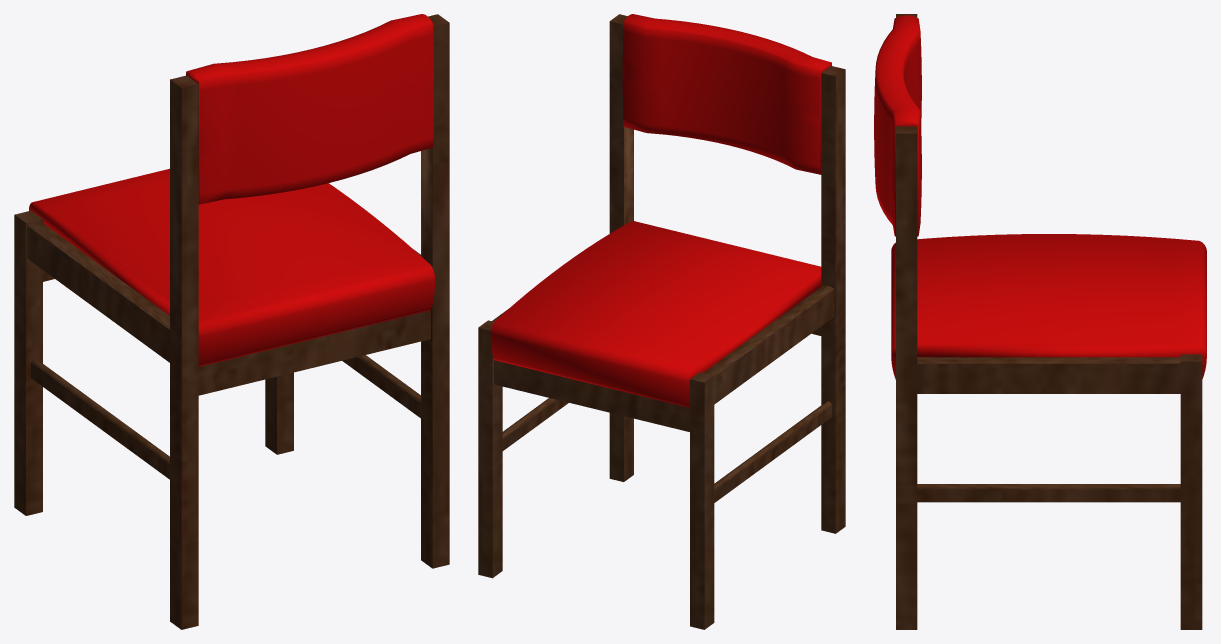
The picture shows the model from 3 angles, left to right: view 1: azimuth 30°, elevation 25°; view 2: azimuth 150°, elevation 25°; view 3: azimuth 270°, elevation 25°; orthographic projection. The views are drawn at different scales.
Parts seen in each view (by area): view 1: mesh2_mesh2-geometry_1, mesh1_mesh1-geometry, mesh2_mesh2-geometry; view 2: mesh2_mesh2-geometry_1, mesh1_mesh1-geometry, mesh2_mesh2-geometry; view 3: mesh1_mesh1-geometry, mesh2_mesh2-geometry_1, mesh2_mesh2-geometry.
Boxes of the visible parts, x1,y1,x2,y2 form: mesh2_mesh2-geometry_1: (14,14,449,629); mesh1_mesh1-geometry: (29,168,434,366); mesh2_mesh2-geometry: (186,14,433,204); mesh2_mesh2-geometry_1: (478,14,845,629); mesh1_mesh1-geometry: (490,220,821,407); mesh2_mesh2-geometry: (622,14,831,174); mesh1_mesh1-geometry: (891,234,1206,379); mesh2_mesh2-geometry_1: (896,14,1202,629); mesh2_mesh2-geometry: (874,15,921,236).
Bounding box in the file's own units: 0.4015 × 0.7853 × 0.4714.
Materials: 3 (1 with a texture image).
